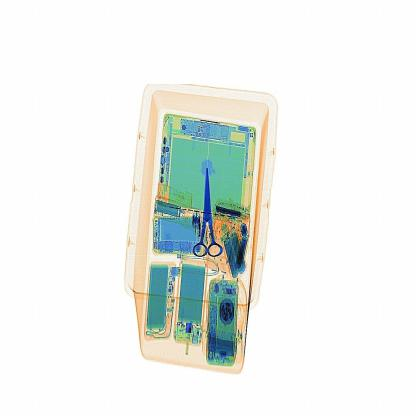gun: (185, 161, 227, 262)
